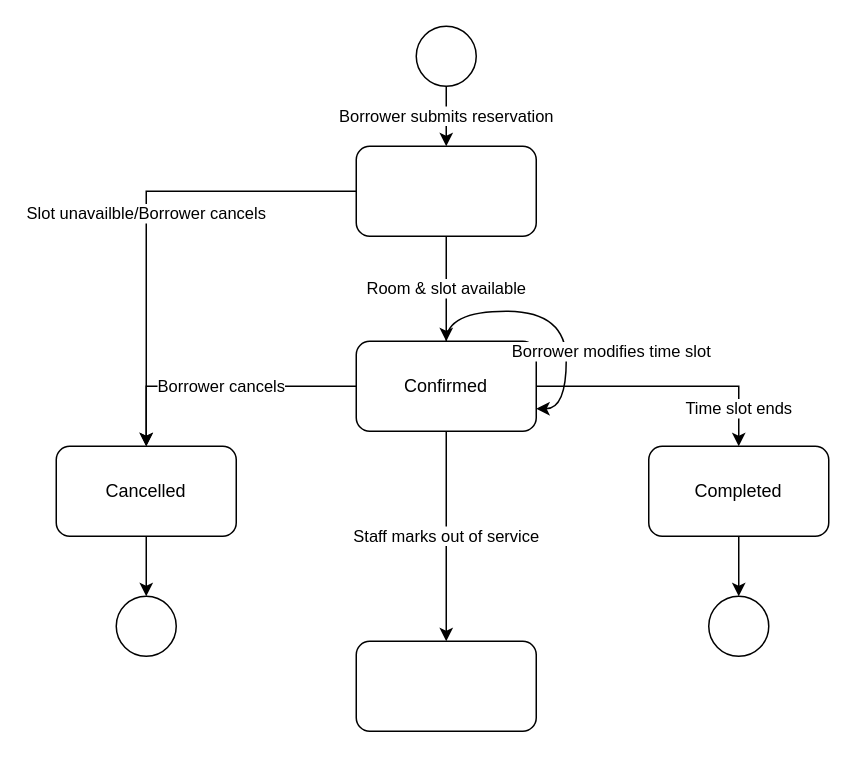
This 855x758 diagram has some shape labels left out. The centre of each missing label's shape, as x and y in pixels:
"Out of service" belongs at pixel 445 685.
"Pending" belongs at pixel 445 190.
